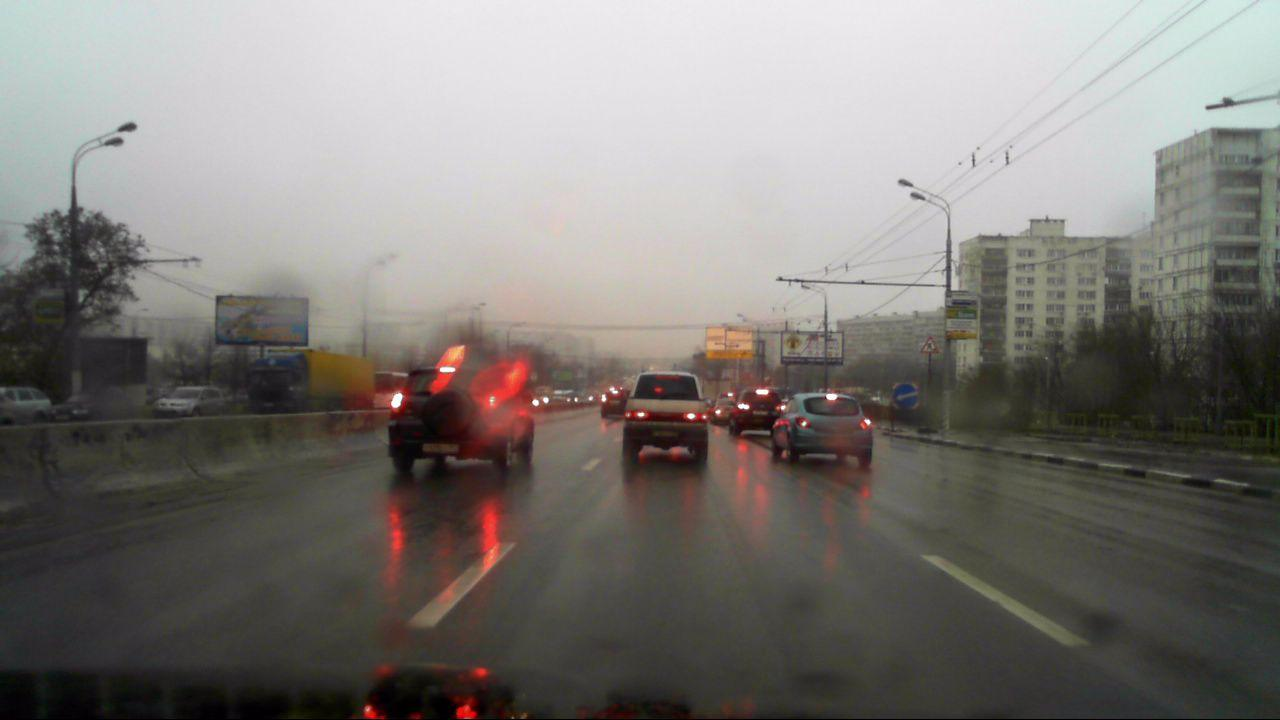1_25: (921, 333, 939, 354)
4_2_2: (893, 382, 918, 407)
